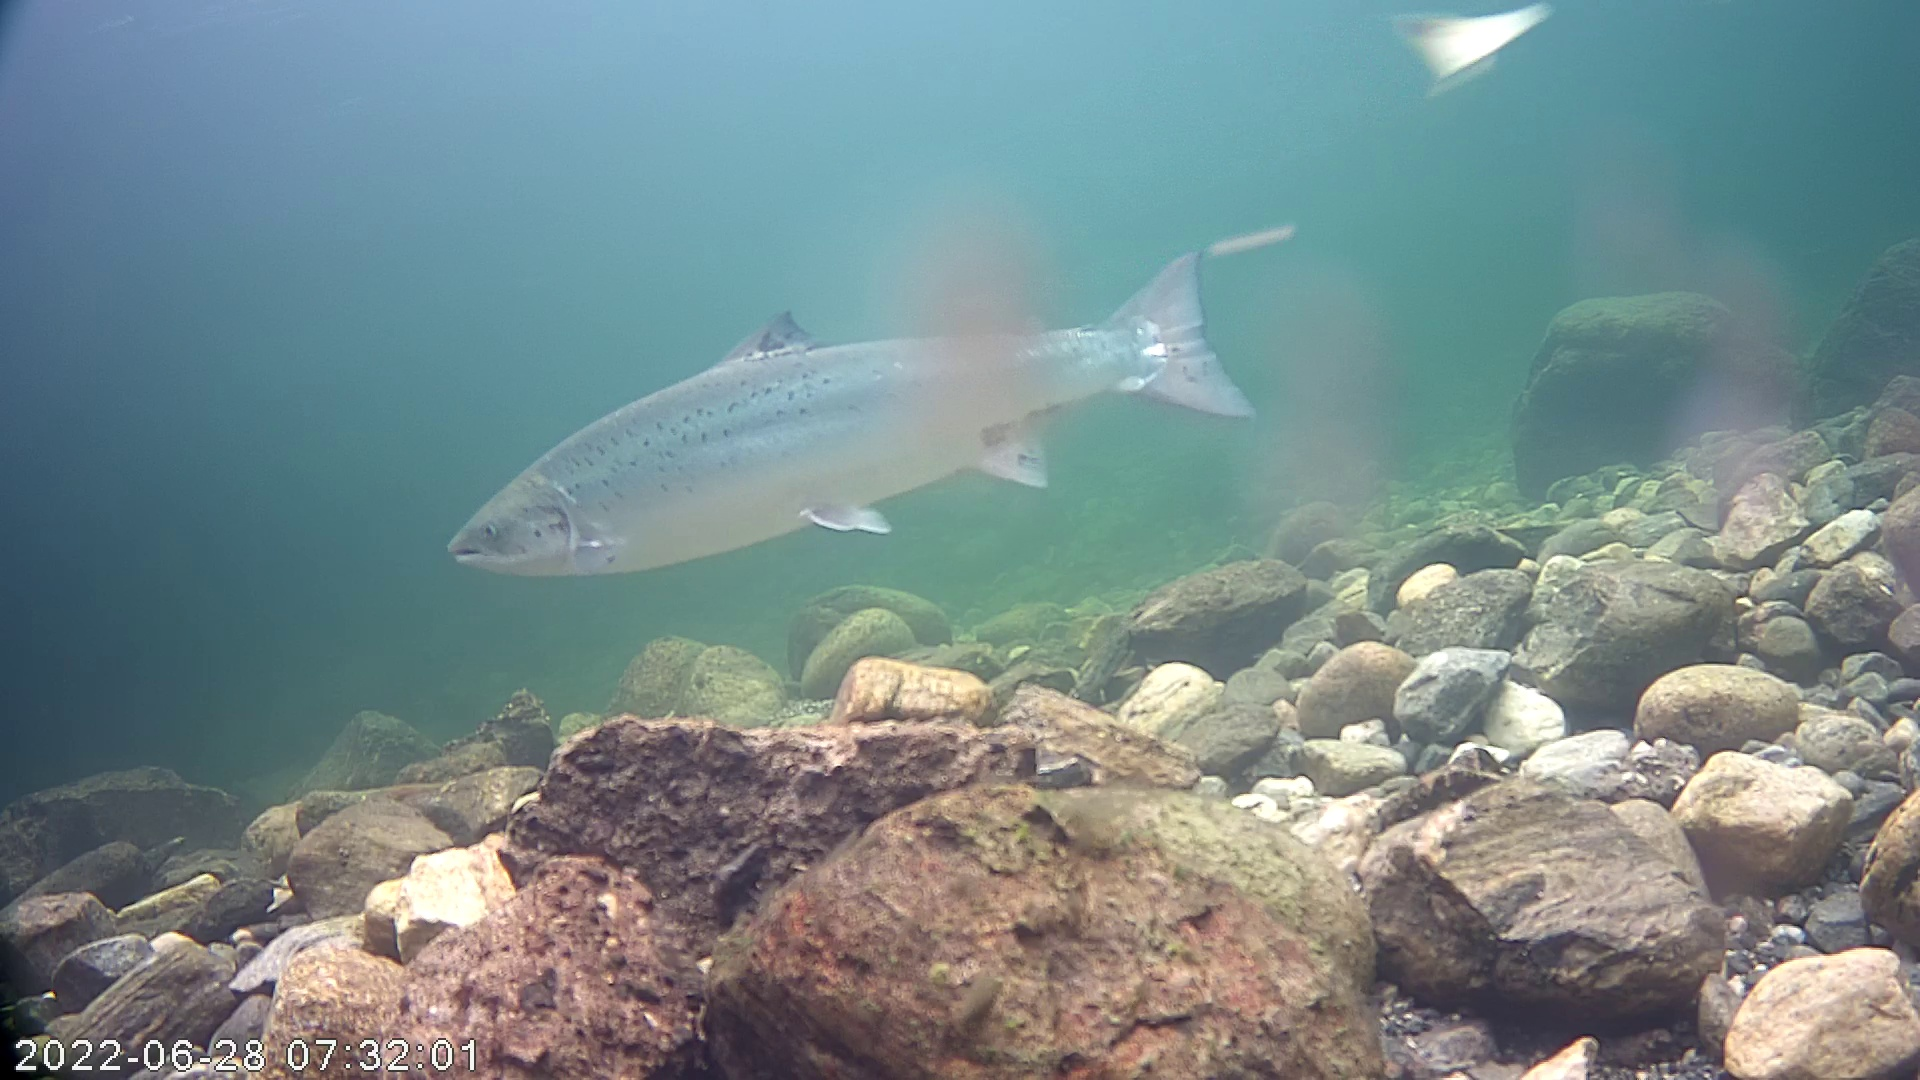salmon: (442, 189, 1284, 617)
